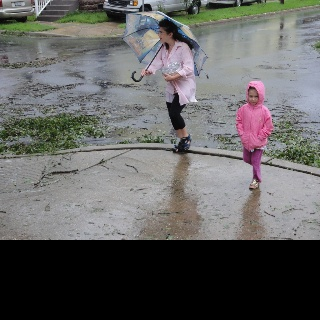without_mask: (158, 26, 173, 42), (248, 85, 259, 105)
